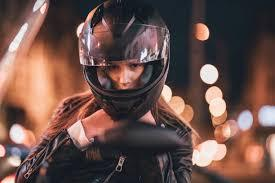helmet: (73, 0, 193, 123)
